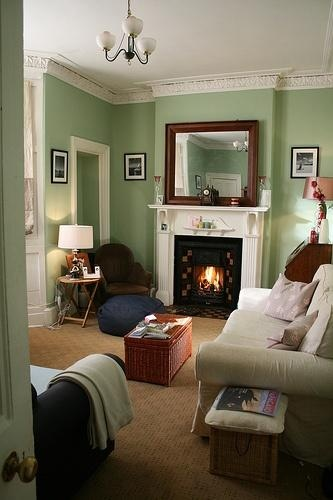chair: (32, 352, 126, 491), (94, 243, 153, 304)
sofa: (191, 265, 332, 470)
